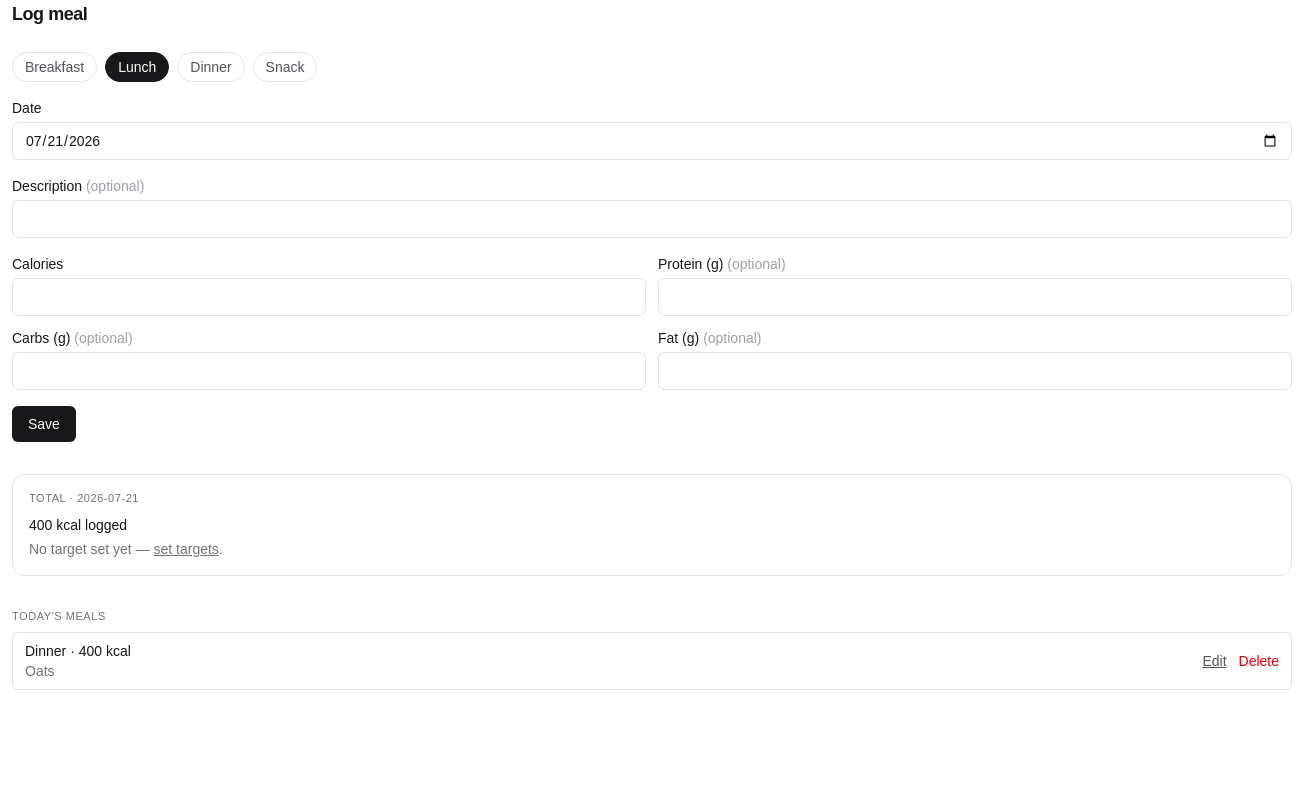
Test: LogMealPanel › AC-M35: cancelling an edit does not leak the edited entry's meal type into create mode
expect the radio button labelled "Lunch" is checked: met, box [105, 52, 169, 82]
Click the button "Edit".
click(1214, 661)  # box [1202, 651, 1226, 671]
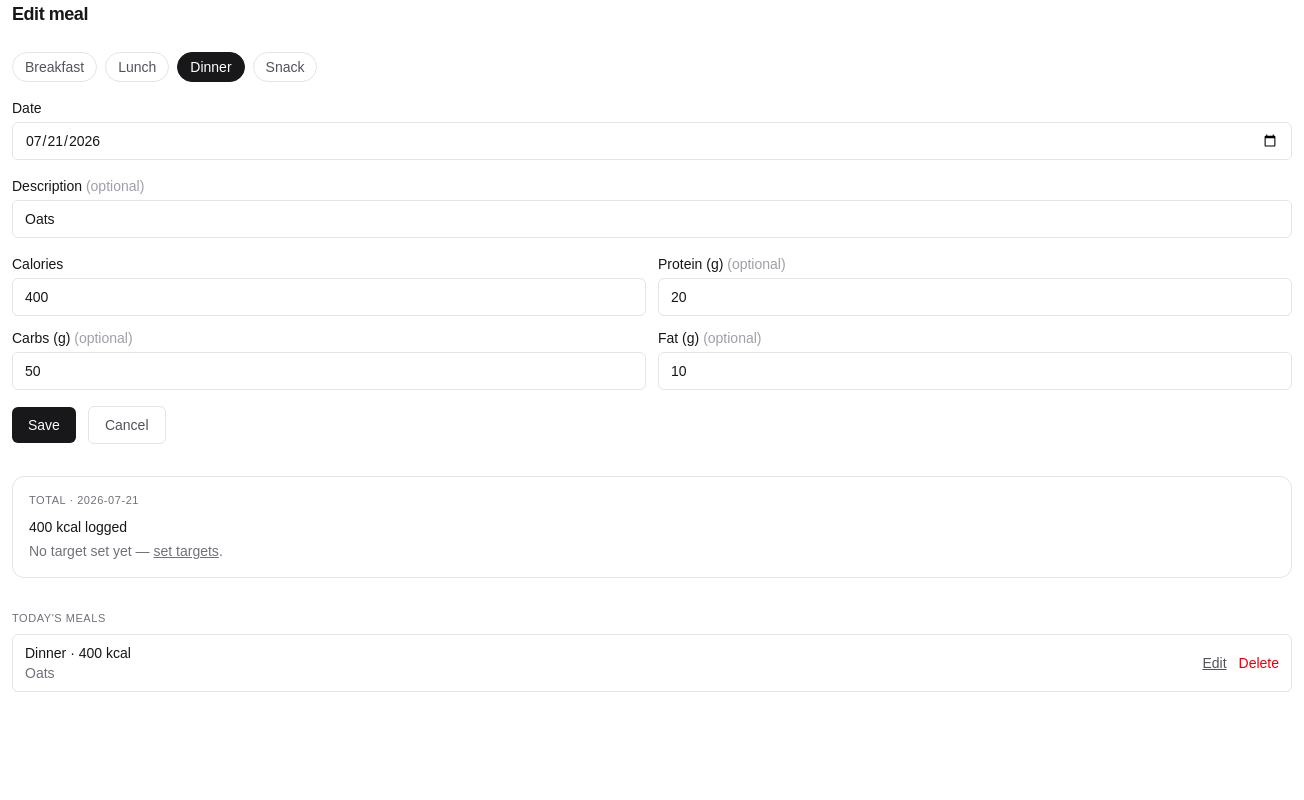
expect the heading "Edit meal" is shown: met, box [12, 4, 88, 24]
expect the radio button labelled "Dinner" is checked: met, box [177, 52, 245, 82]
Click the button "Cancel".
click(127, 425)  # box [88, 406, 166, 444]
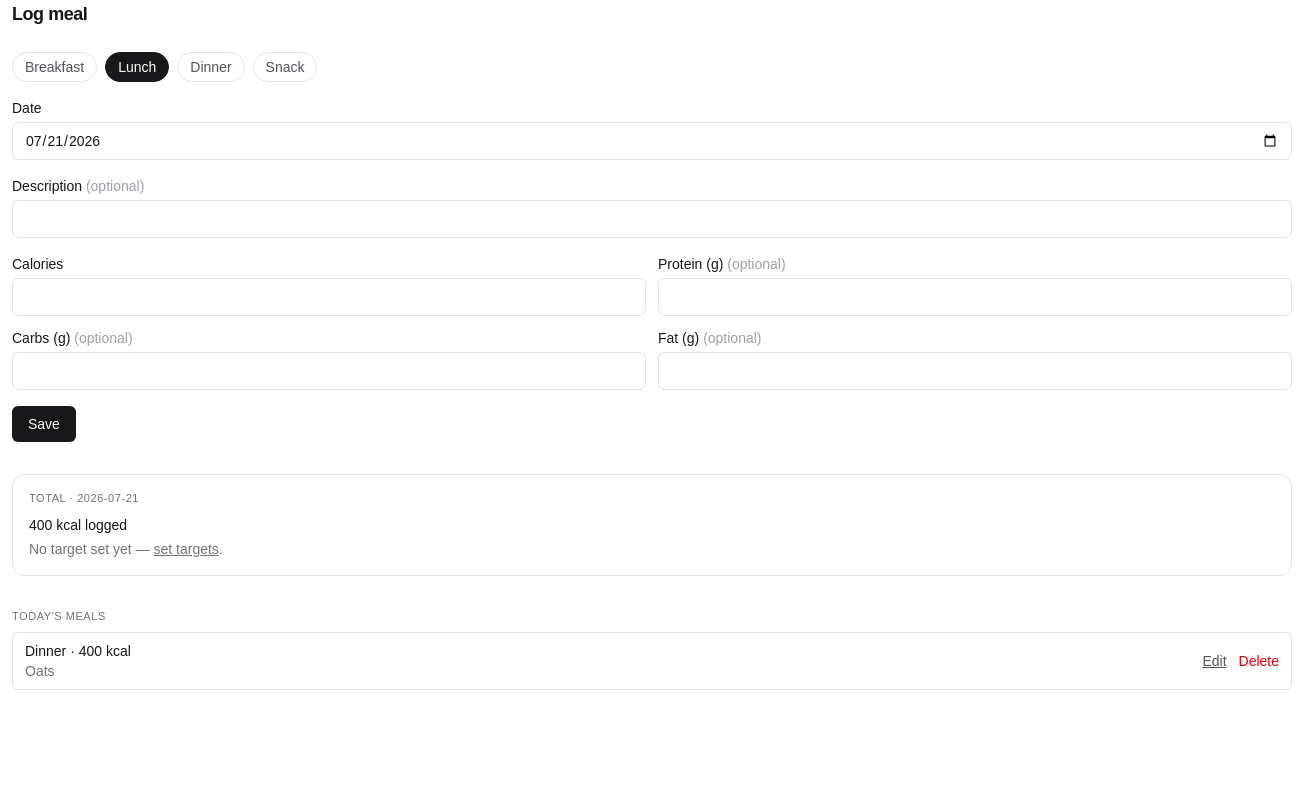
expect the heading "Edit meal" is gone: met
expect the radio button labelled "Lunch" is checked: met, box [105, 52, 169, 82]
